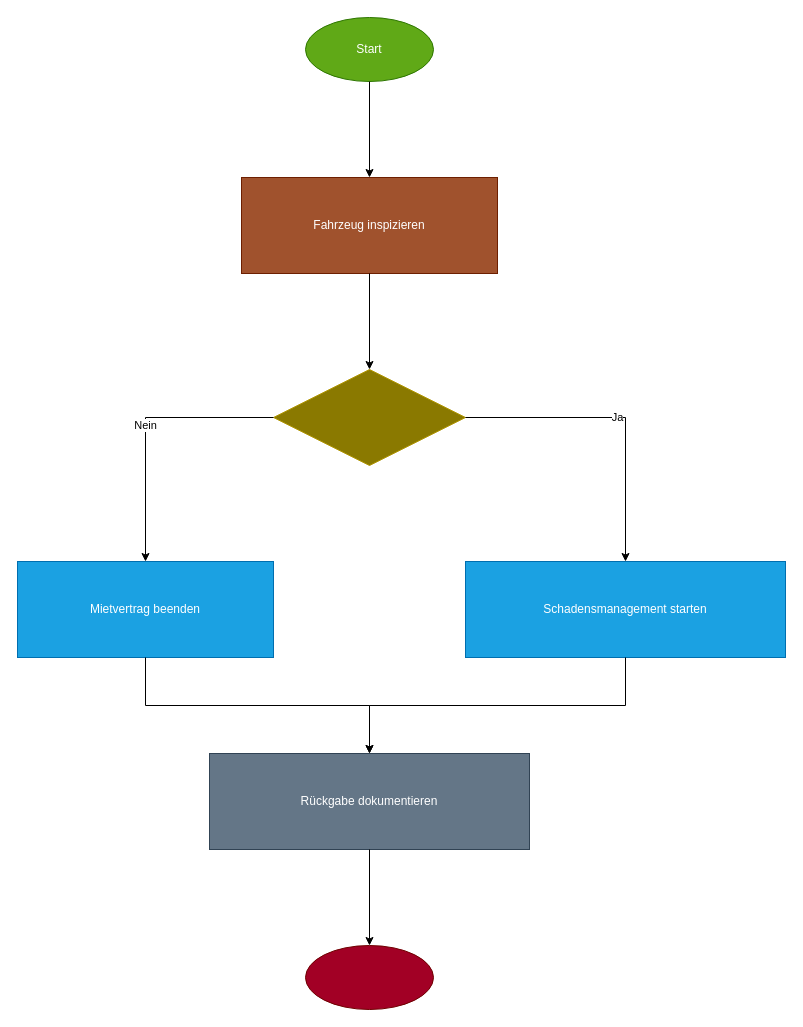
Image size: 803x1027. Some labels were removed from this diagram. The shapes that lost their labels are listed below. From the top down, each one's box as (x1, y1, x2, y2) in pixels, then its label:
(272, 368, 466, 466): Schäden vorhanden?
(304, 944, 434, 1010): Ende
